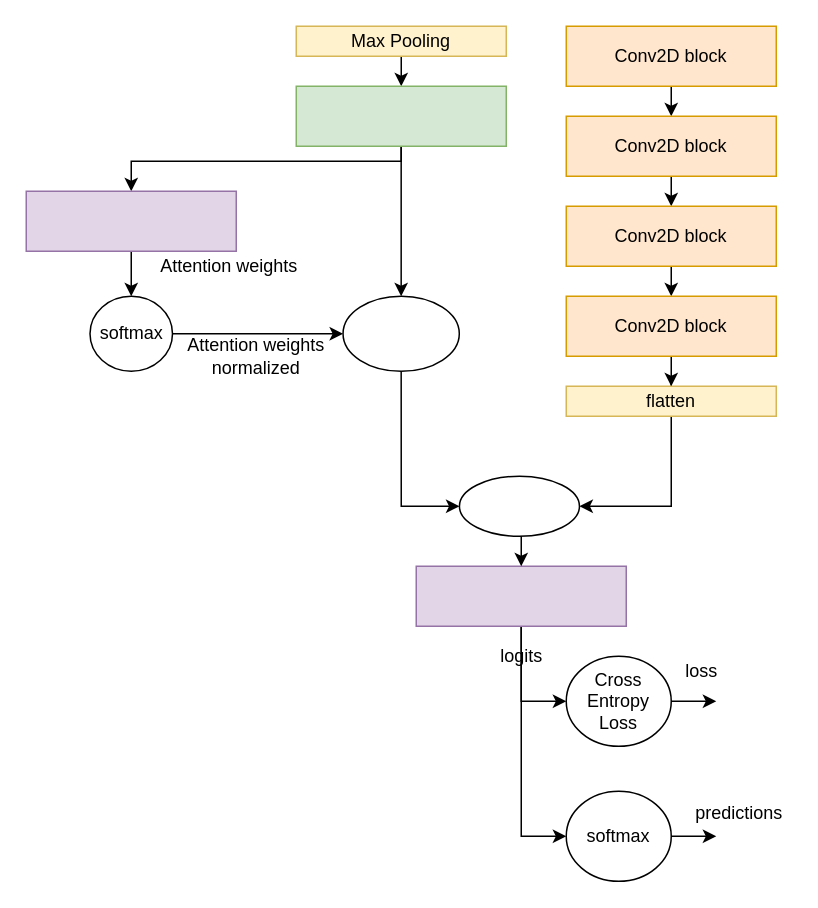
Some shapes in this 818 by 908 pixel diagram are drawn without their labels. Here are the shapes that lost their labels. From the top down, the centre of each, then its label:
At pixel 400 115: "Bidirectional LSTM".
At pixel 130 220: "Attention Linear".
At pixel 400 333: "multiplication".
At pixel 518 505: "Concatenate".
At pixel 520 595: "Linear".
